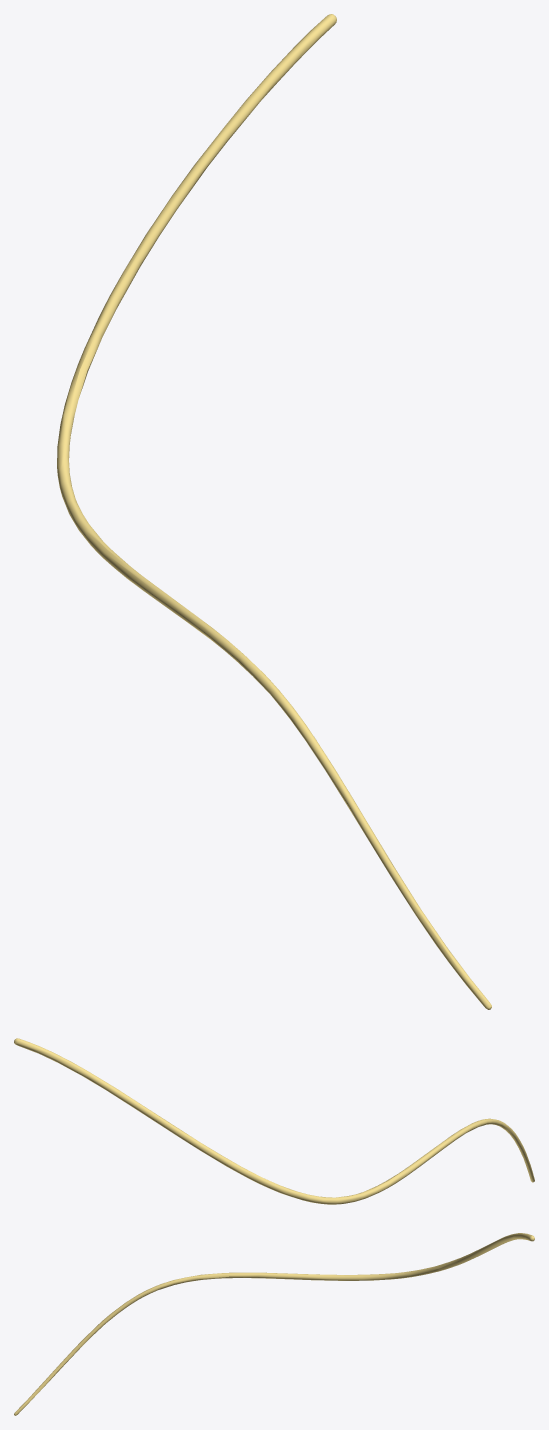
Rendered from fma52799_fj3959.glb.
The picture shows the model from 3 angles, top to bottom: view 1: azimuth 30°, elevation 25°; view 2: azimuth 150°, elevation 25°; view 3: azimuth 270°, elevation 25°; orthographic projection. The views are drawn at different scales.
Visible parts, largest first — view 1: FMA52799_FJ3959; view 2: FMA52799_FJ3959; view 3: FMA52799_FJ3959.
Boxes of the visible parts, <box> form: FMA52799_FJ3959: <box>57,14,491,1009</box>; FMA52799_FJ3959: <box>14,1038,534,1204</box>; FMA52799_FJ3959: <box>14,1233,534,1415</box>.
Bounding box in the file's own units: 0.0203 × 0.0236 × 0.0416.
